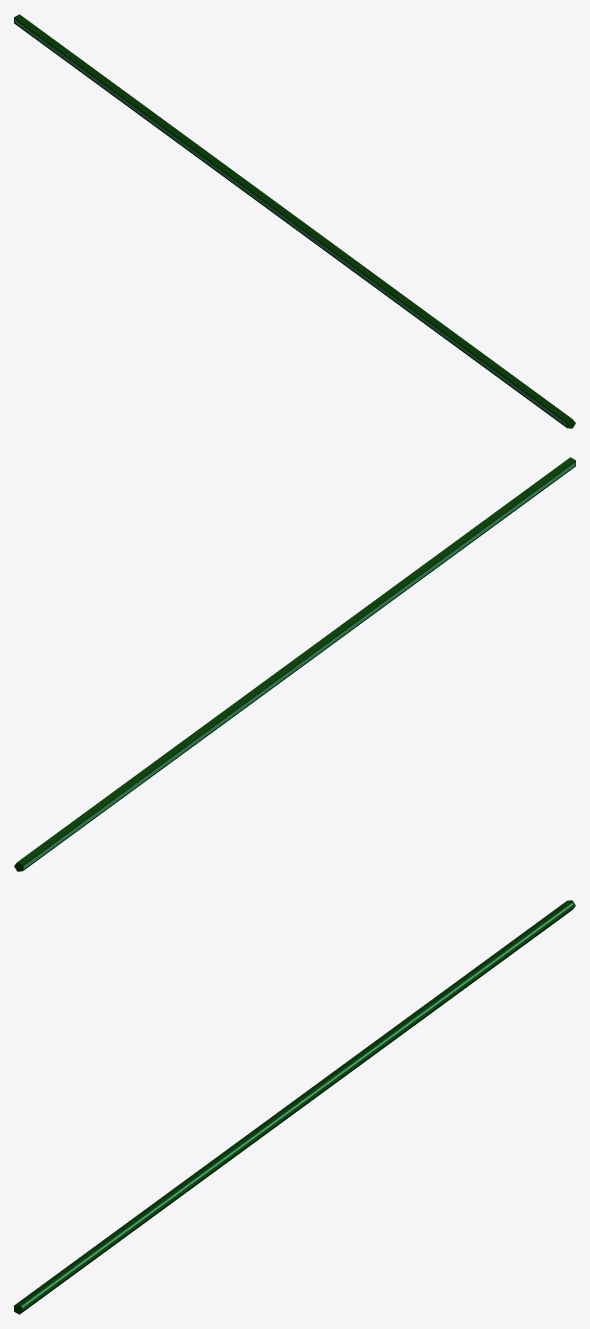
File: cipóFBXcomAnimacao.FBX
3 renders of one model, top to bottom at view 1: azimuth 30°, elevation 25°; view 2: azimuth 150°, elevation 25°; view 3: azimuth 330°, elevation 25°, orthographic.
Parts seen in each view (by area): view 1: Line001; view 2: Line001; view 3: Line001.
Part boxes in pixels (x1,y1,x2,y2): Line001: [14, 14, 575, 428]; Line001: [14, 457, 575, 871]; Line001: [14, 900, 575, 1314].
Size of the model in its own units: 1.25 by 1.31 by 135.
